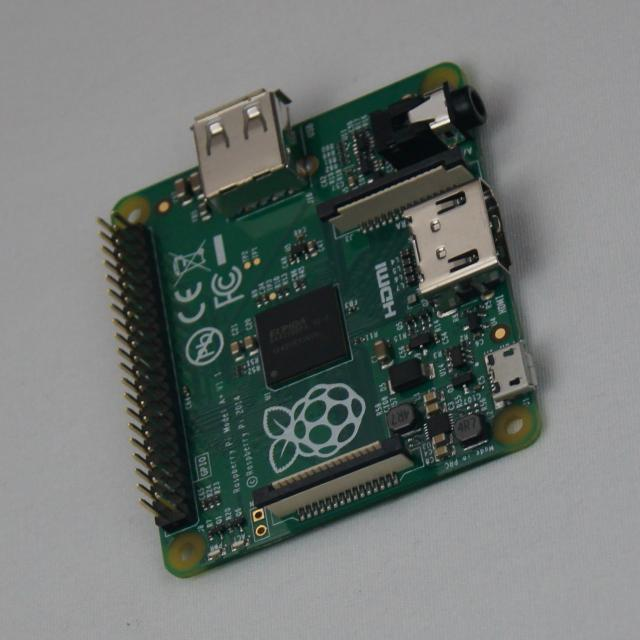Raspberry-Pi-1-A-: (101, 63, 542, 578)
